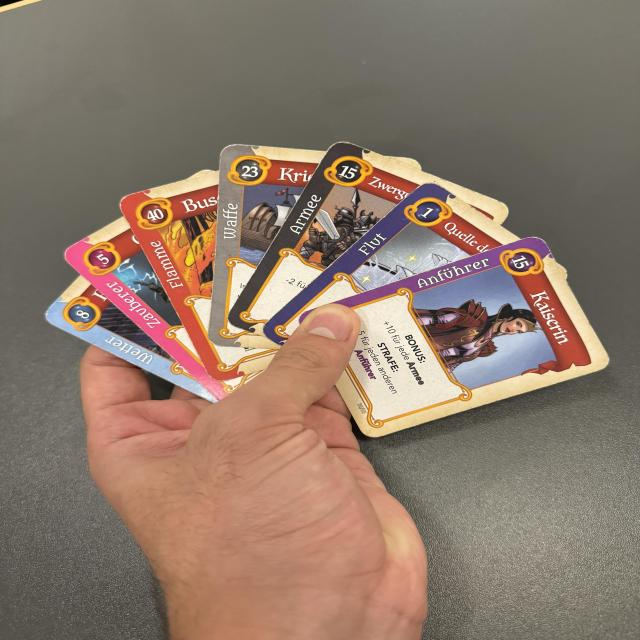Dwarvish Infantry: (227, 140, 430, 332)
Elemental Enchantress: (63, 216, 224, 402)
Empress: (331, 235, 619, 442)
Fountain Of Life: (264, 182, 519, 326)
Rainstorm: (44, 275, 217, 401)
Warship: (210, 145, 326, 341)
Wildfire: (119, 171, 218, 368)
